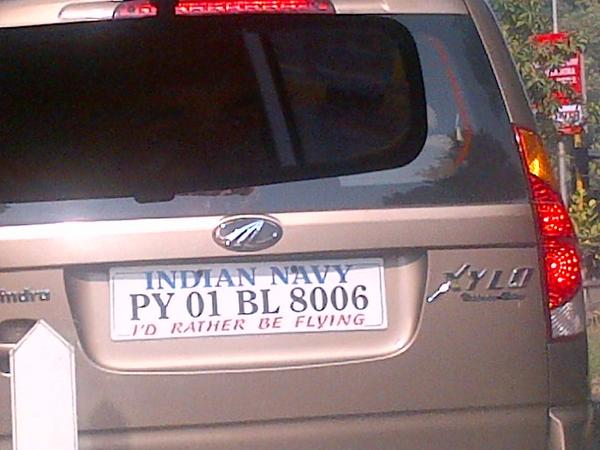number_plate: (109, 265, 390, 335)
